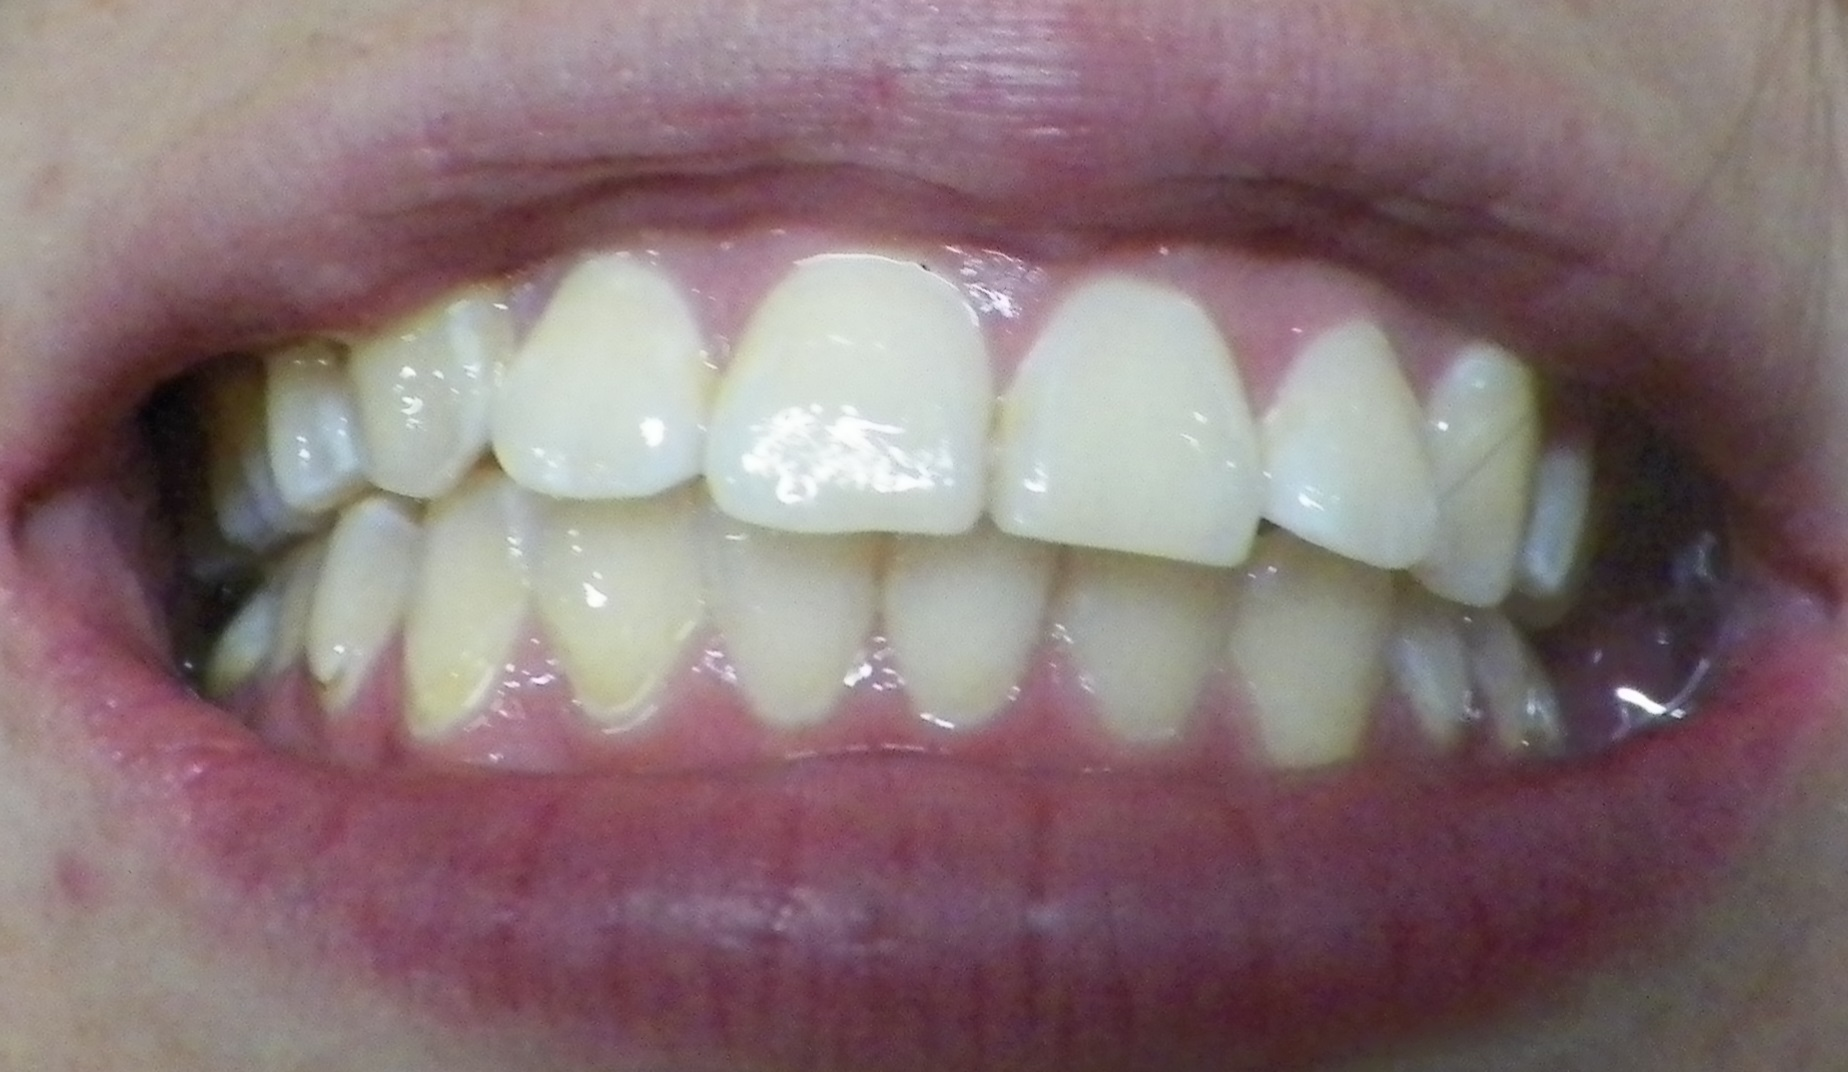boca: (220, 268, 1593, 747)
